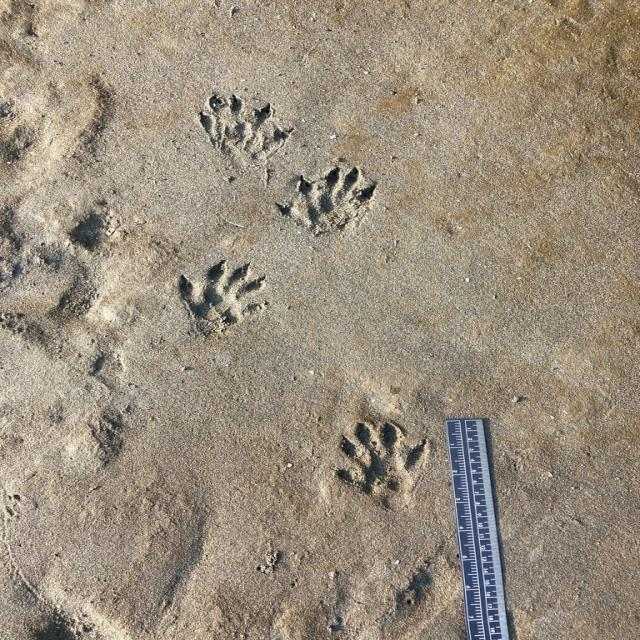mustelid: (334, 421, 434, 503), (276, 164, 384, 229), (196, 92, 285, 164), (179, 260, 267, 332)
